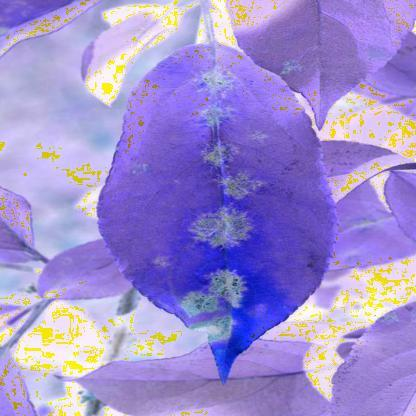Apple Scab Leaf: (92, 44, 340, 386)
